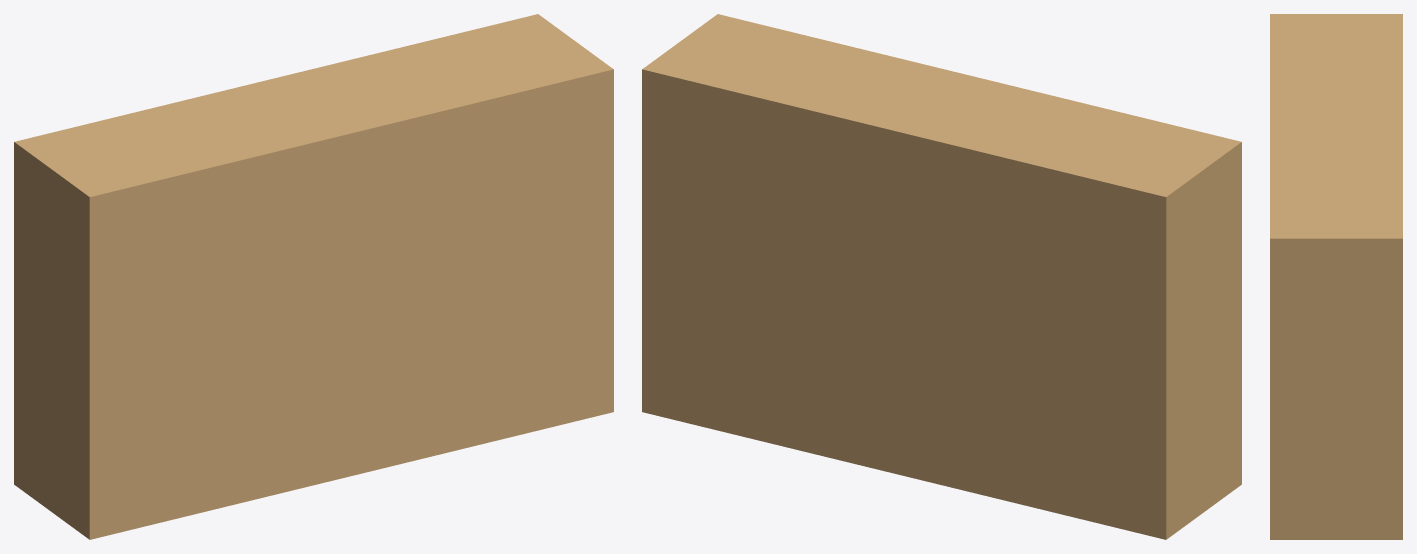
The model's file is extrude_poly_z_demo.glb.
The picture shows the model from 3 angles, left to right: view 1: azimuth 30°, elevation 25°; view 2: azimuth 150°, elevation 25°; view 3: azimuth 270°, elevation 25°; orthographic projection. The views are drawn at different scales.
Parts seen in each view (by area): view 1: extruded_slab; view 2: extruded_slab; view 3: extruded_slab.
Boxes of the visible parts, x1=… form: extruded_slab: x1=14, y1=14, x2=613, y2=539; extruded_slab: x1=642, y1=14, x2=1241, y2=539; extruded_slab: x1=1270, y1=14, x2=1402, y2=539.
Size of the model in its own units: 16 by 10 by 4.
